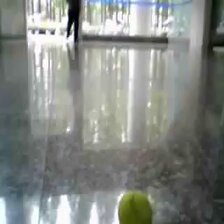tennis: (117, 192, 152, 224)
